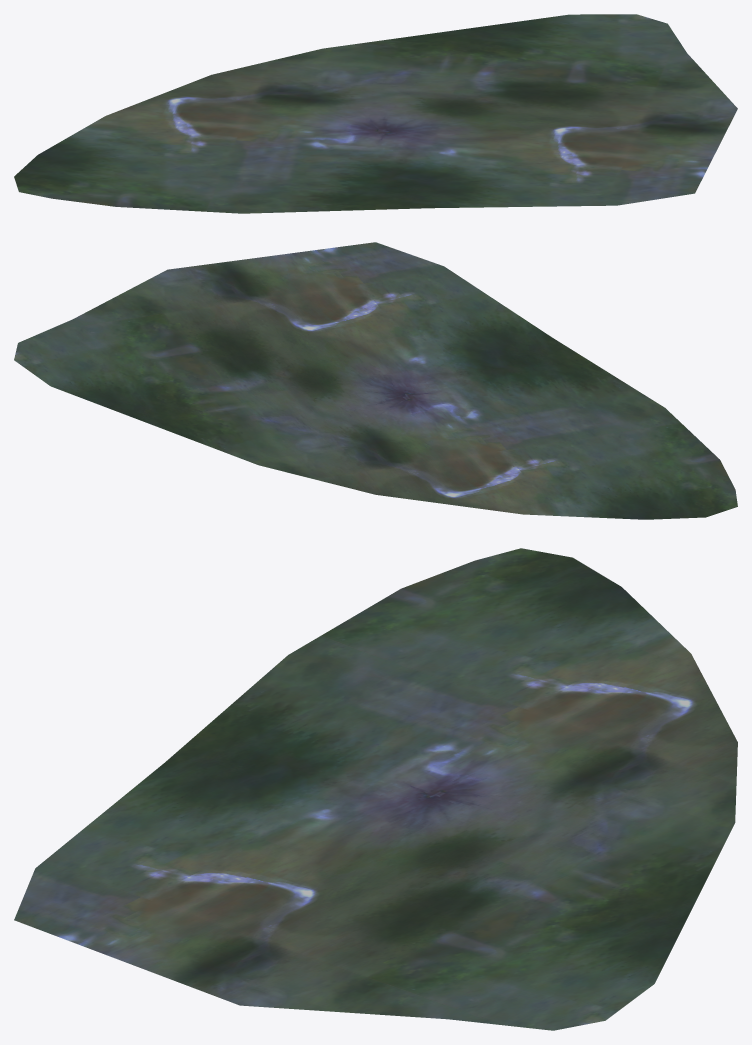
The model's file is CZPlat_4_Top.gltf.
3 views of the same model, one above another, from view 1: azimuth 30°, elevation 25°; view 2: azimuth 150°, elevation 25°; view 3: azimuth 270°, elevation 25° (orthographic). The views are drawn at different scales.
Visible parts, largest first — view 1: CZPlat_4_Top; view 2: CZPlat_4_Top; view 3: CZPlat_4_Top.
Boxes of the visible parts, left/top/right/bottom form: CZPlat_4_Top: left=14, top=14, right=737, bottom=213; CZPlat_4_Top: left=14, top=242, right=737, bottom=519; CZPlat_4_Top: left=14, top=548, right=737, bottom=1030.
Size of the model in its own units: 63.27 by 0.1696 by 40.17.
Materials: 1 (1 with a texture image).
